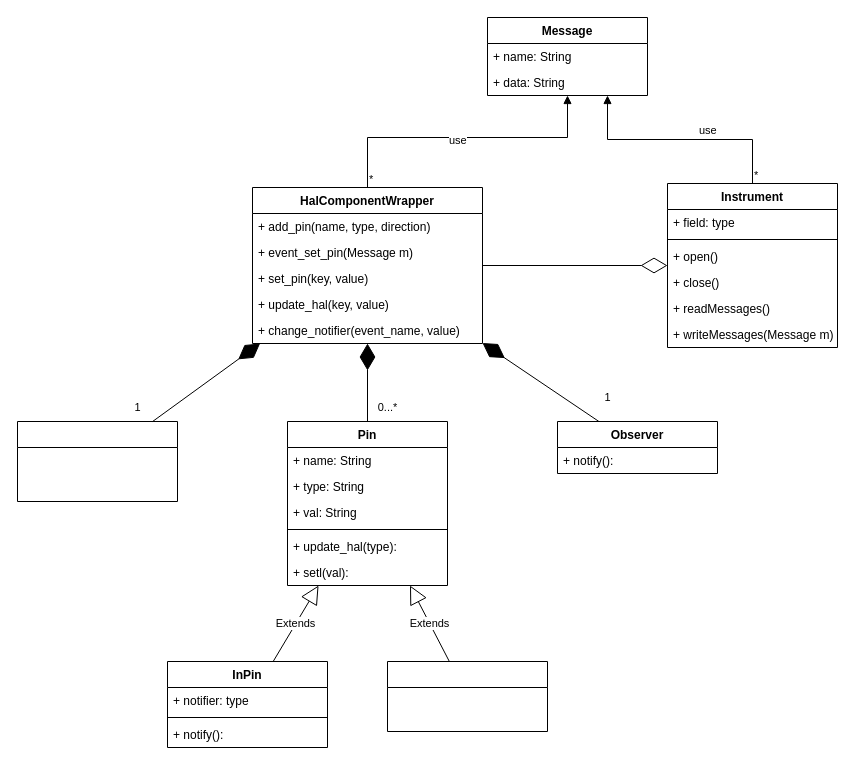
The diagram is 855 pixels wide and 768 high, and some of its shapes have lost their labels. Each missing label, with the centre of its shape:
HAL: the point at 97,461
OutPin: the point at 467,696
